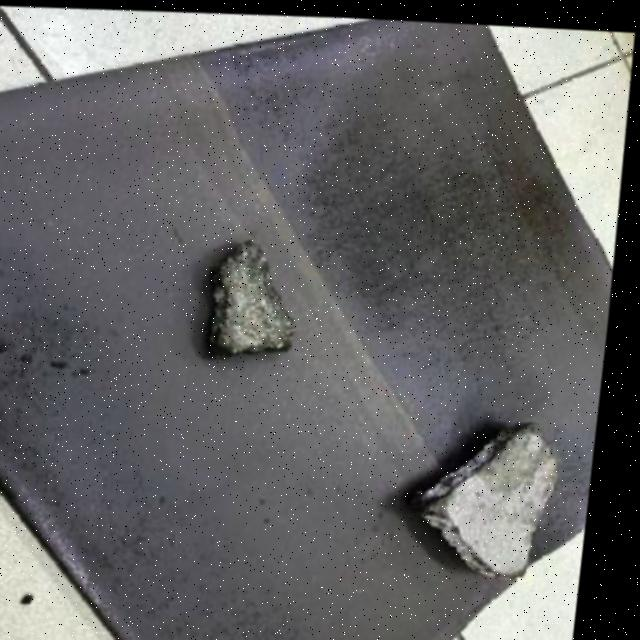Road Debris: (135, 415, 288, 492), (0, 621, 49, 640)
